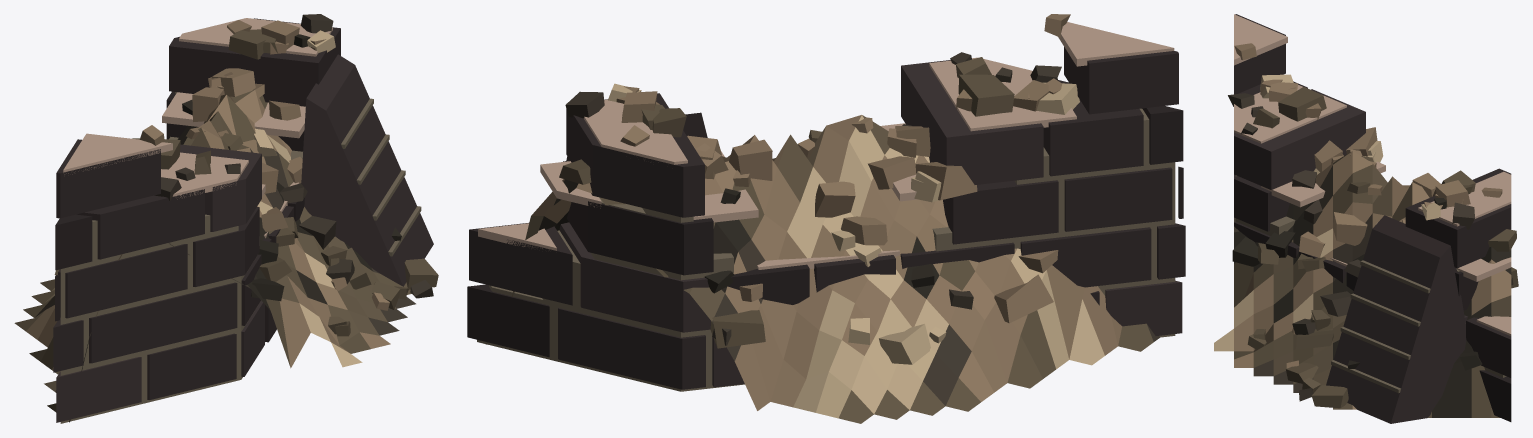
File: AraWall07a.glb
The picture shows the model from 3 angles, left to right: view 1: azimuth 30°, elevation 25°; view 2: azimuth 150°, elevation 25°; view 3: azimuth 270°, elevation 25°; orthographic projection. The views are drawn at different scales.
Parts seen in each view (by area): view 1: AraWall07a_mortar; view 2: AraWall07a_mortar; view 3: AraWall07a_mortar.
Part boxes in pixels (x1,y1,x2,y2): AraWall07a_mortar: [14, 14, 438, 423]; AraWall07a_mortar: [467, 14, 1185, 423]; AraWall07a_mortar: [1214, 14, 1518, 423].
Bounding box in the file's own units: 5.91 × 3.16 × 3.85.
